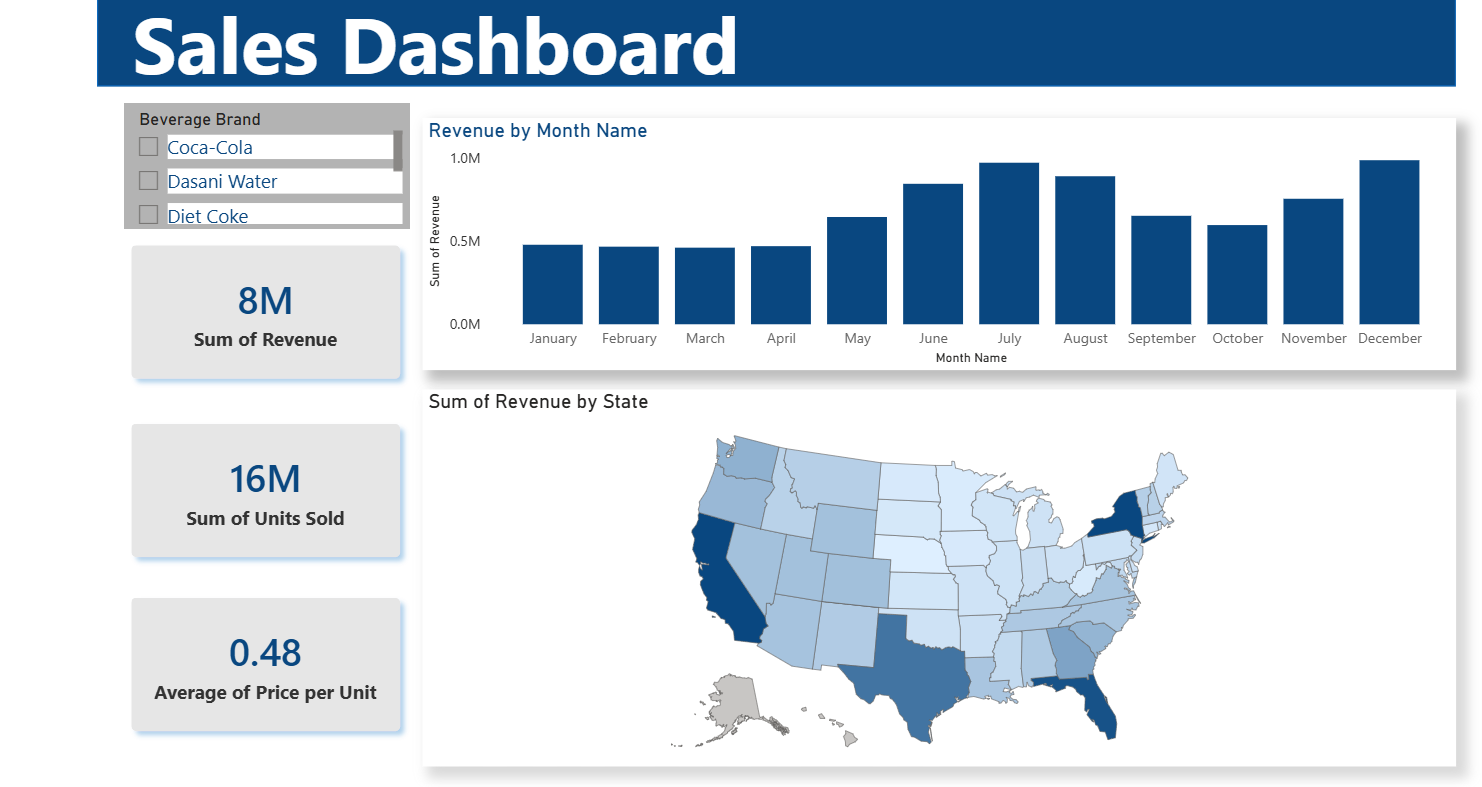

The page's visual inventory and layout, read from the dashboard file:
{"tool":"powerbi","page":{"name":"Page 1","canvas":[1280,720],"ordinal":0},"visuals":[{"type":"shape","title":"Sales Dashboard","box":[96.8,0,1153.5,82.8],"z":0},{"type":"cardVisual","fields":{"Data":["Sum(Data.Revenue)"]},"box":[96.8,188.4,286.5,171.9],"z":1000},{"type":"cardVisual","fields":{"Data":["Avg(Data.Price per Unit)"]},"box":[96.8,487.6,286.5,171.9],"z":2000},{"type":"cardVisual","fields":{"Data":["Sum(Data.Units Sold)"]},"box":[96.8,339.9,286.5,171.9],"z":3000},{"type":"columnChart","title":"Revenue by Month Name","fields":{"Category":["Data.Month Name"],"Y":["Sum(Data.Revenue)"]},"box":[372.5,110,877.5,213.8],"z":4000},{"type":"slicer","fields":{"Values":["Data.Beverage Brand"]},"box":[119.7,96.8,241.9,107],"z":5000},{"type":"shapeMap","fields":{"Category":["Data.State"],"Value":["Sum(Data.Revenue)"]},"box":[372.5,340,877.5,320],"z":6000}]}

Visuals, with their boxes on the page's 1280x720 design canvas (x1, y1, x2, y2). These are canvas units, not pixel positions in the 1482x787 screenshot, which may show the page scaled, cropped or inside an application window:
"Sales Dashboard" shape: 97, 0, 1250, 83
cardVisual - Sum(Data.Revenue): 97, 188, 383, 360
cardVisual - Avg(Data.Price per Unit): 97, 488, 383, 660
cardVisual - Sum(Data.Units Sold): 97, 340, 383, 512
"Revenue by Month Name" columnChart: 372, 110, 1250, 324
slicer - Data.Beverage Brand: 120, 97, 362, 204
shapeMap - Data.State x Sum(Data.Revenue): 372, 340, 1250, 660
